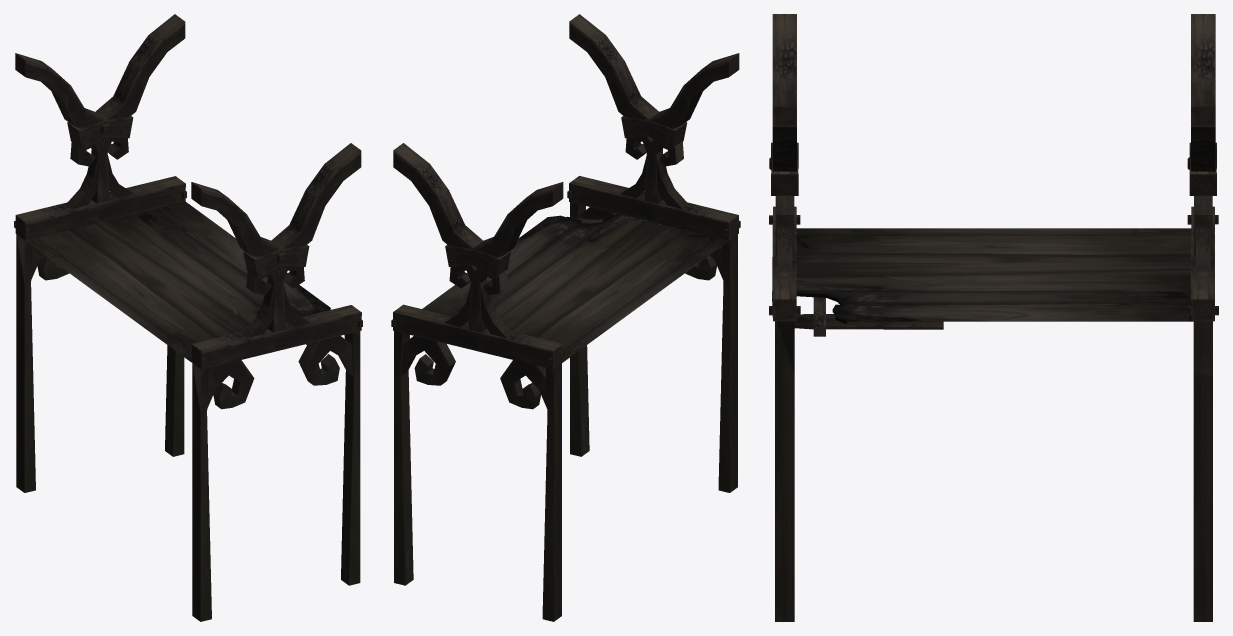
The model's file is wooden_bridge_burnt_02.fbx.
The picture shows the model from 3 angles, left to right: view 1: azimuth 30°, elevation 25°; view 2: azimuth 150°, elevation 25°; view 3: azimuth 270°, elevation 25°; orthographic projection. The views are drawn at different scales.
Parts seen in each view (by area): view 1: obj2.010; view 2: obj2.010; view 3: obj2.010.
Boxes of the visible parts, <box> form: obj2.010: <box>14,14,362,621</box>; obj2.010: <box>391,14,740,621</box>; obj2.010: <box>769,14,1218,621</box>.
Bounding box in the file's own units: 4.01 × 10.35 × 8.19.
